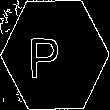P_N: (38, 29, 72, 81)
